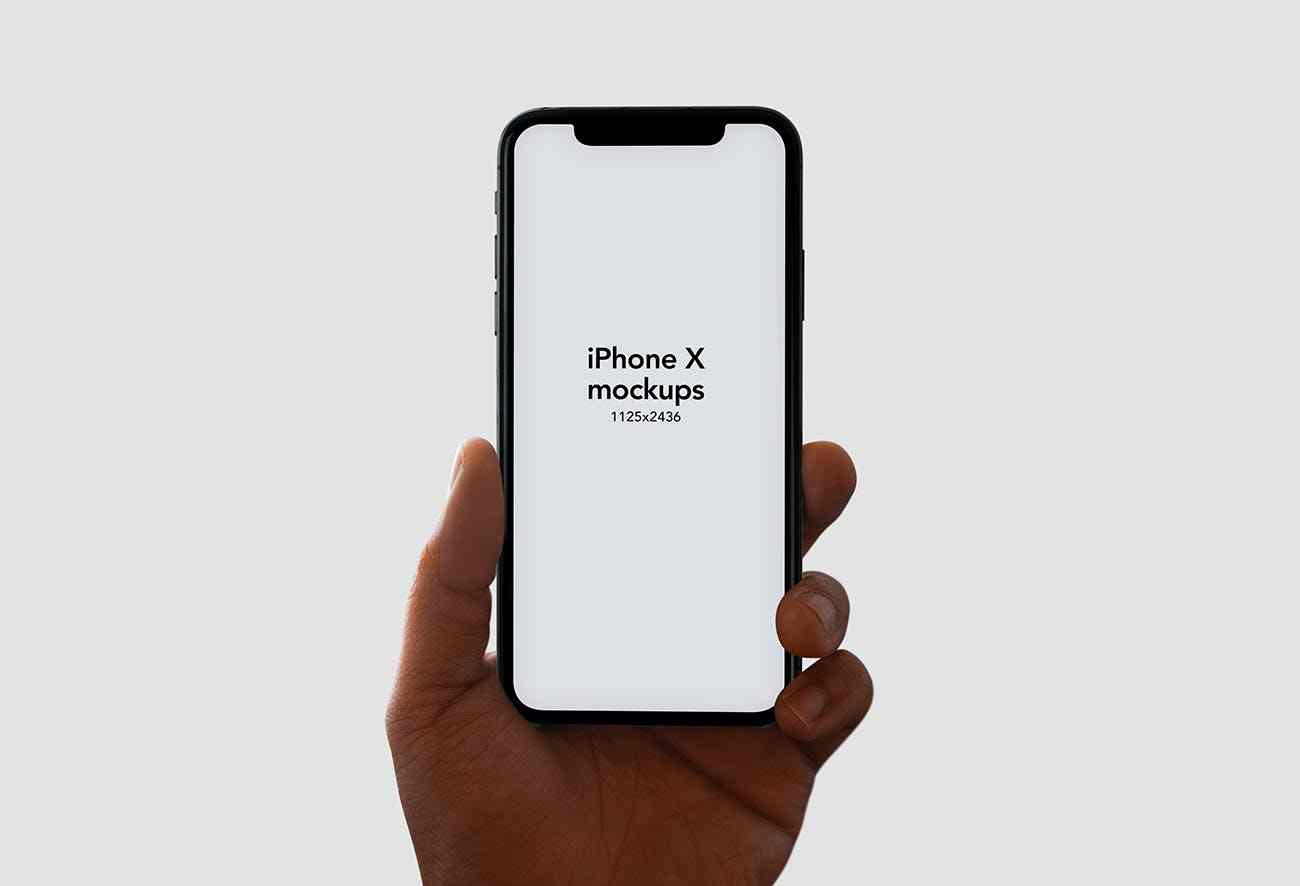phone: (377, 102, 877, 866)
